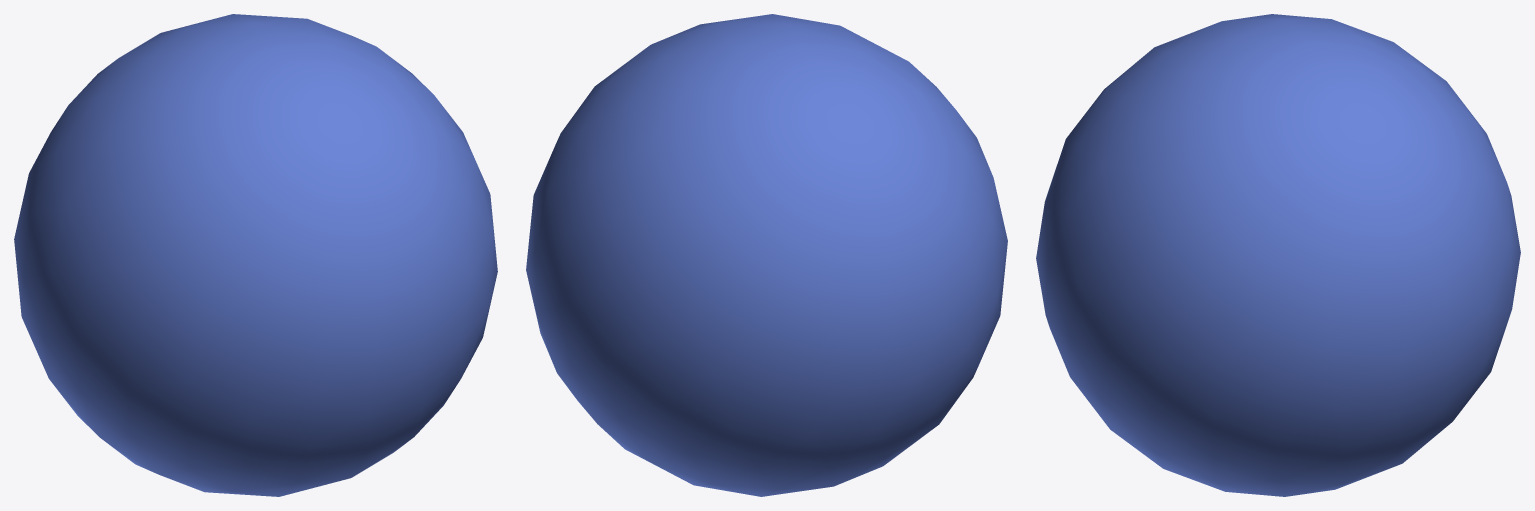
Rendered from Chlorine.glb.
The picture shows the model from 3 angles, left to right: view 1: azimuth 30°, elevation 25°; view 2: azimuth 150°, elevation 25°; view 3: azimuth 270°, elevation 25°; orthographic projection.
Visible parts, largest first — view 1: Chlorine; view 2: Chlorine; view 3: Chlorine.
Part boxes in pixels (x1,y1,x2,y2): Chlorine: [14, 14, 497, 496]; Chlorine: [526, 14, 1007, 496]; Chlorine: [1036, 14, 1520, 496].
Bounding box in the file's own units: 0.6254 × 0.626 × 0.6324.
